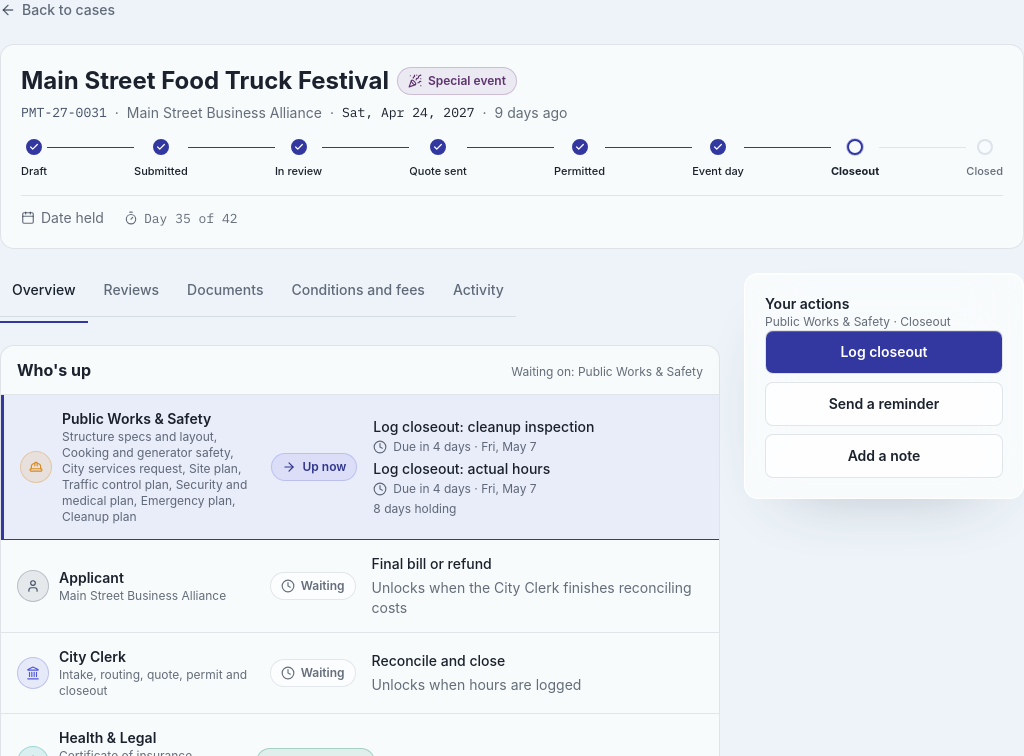
Scenario: case detail: S6 once the hours are in › the Conditions and fees tab says how it settles ($750 over, from the deposit, $250 back), not "Due $750"
Step 1. Click the button "Log closeout" → (884, 352), box x1=765 y1=330 x2=1003 y2=374
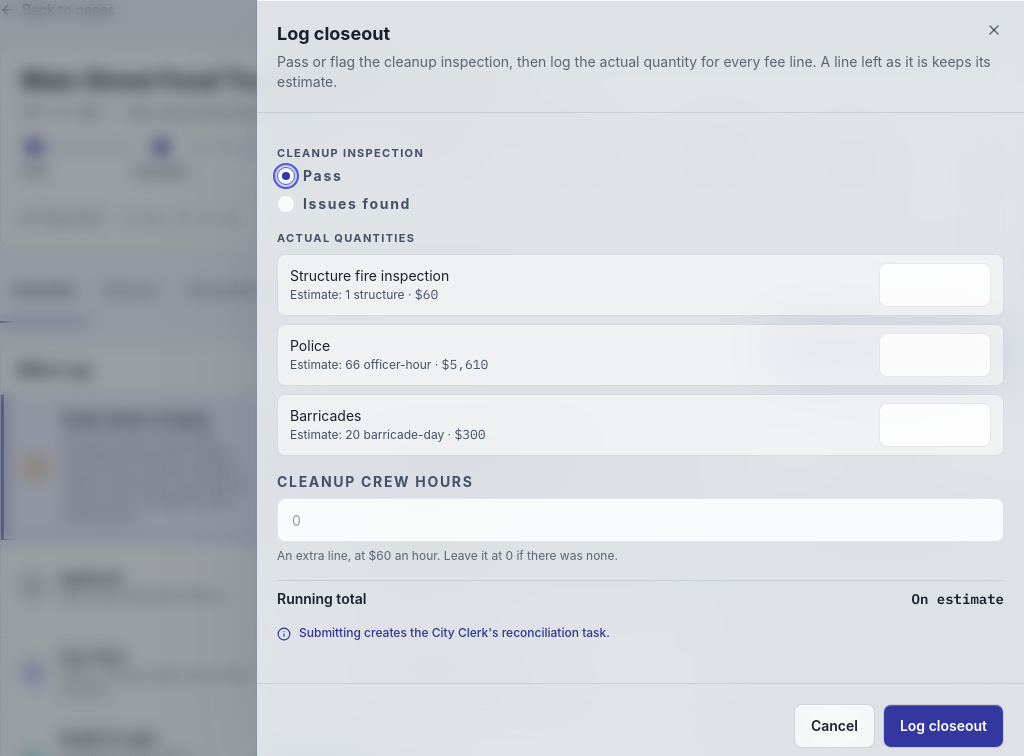
Step 2. Type "72" into the number field named "Actual: Police" → (935, 355), box x1=879 y1=333 x2=991 y2=377
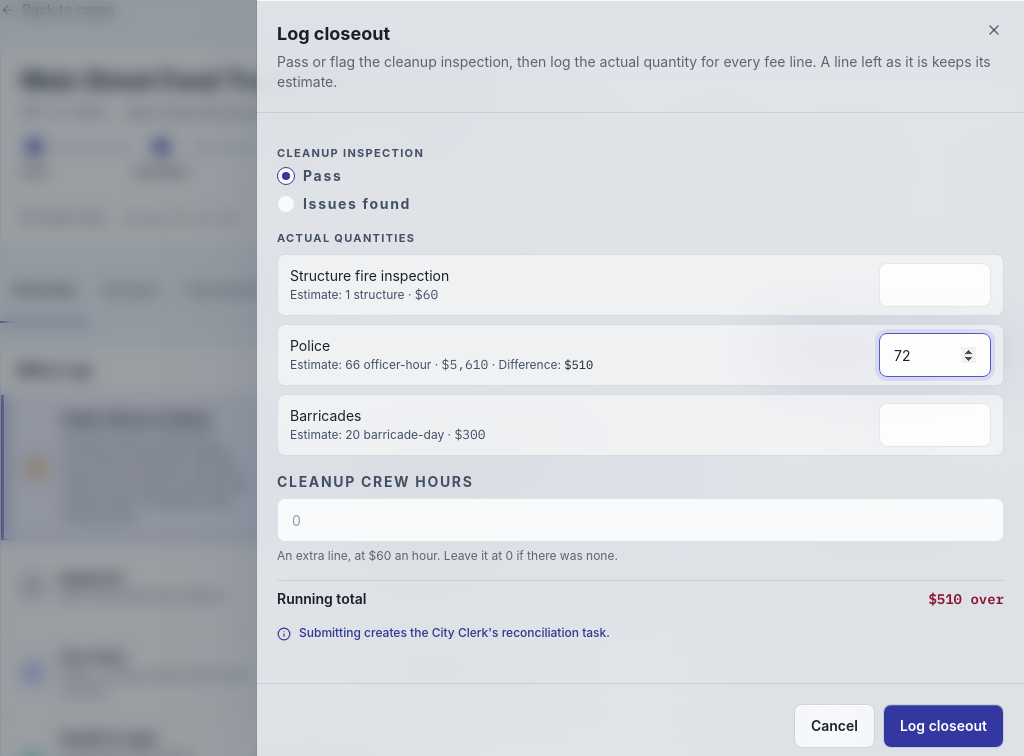
Step 3. Type "4" into the number field labelled "Cleanup crew hours" → (640, 520), box x1=277 y1=498 x2=1004 y2=542
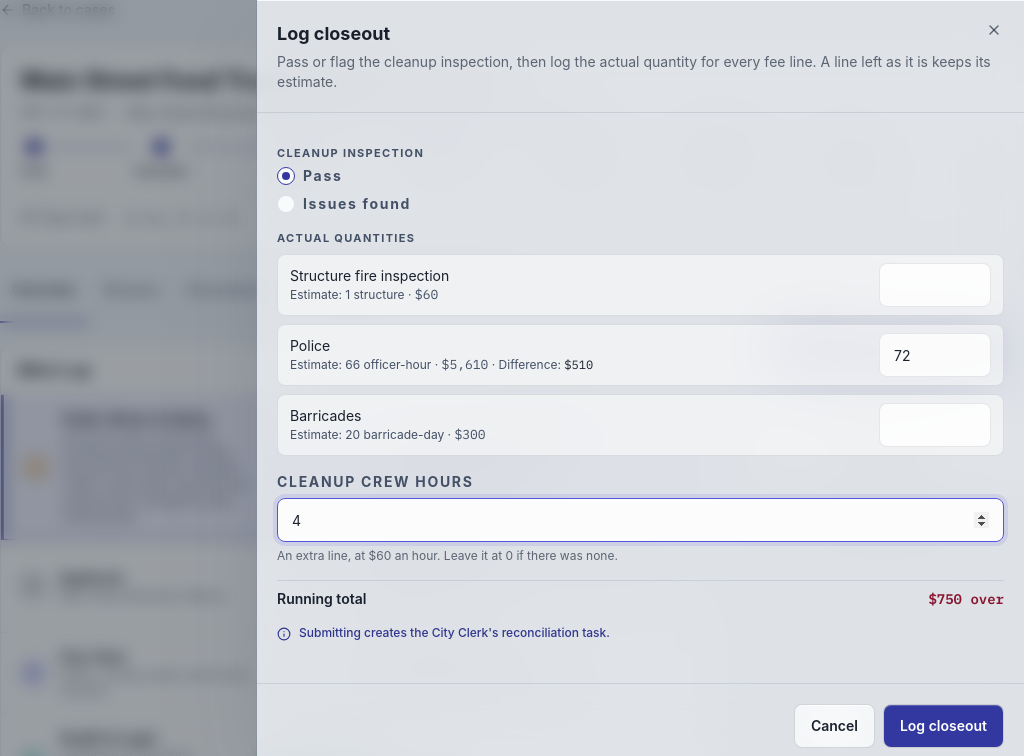
Step 4. Click the button "Log closeout" → (943, 726), box x1=883 y1=704 x2=1004 y2=748
(page scrolled)
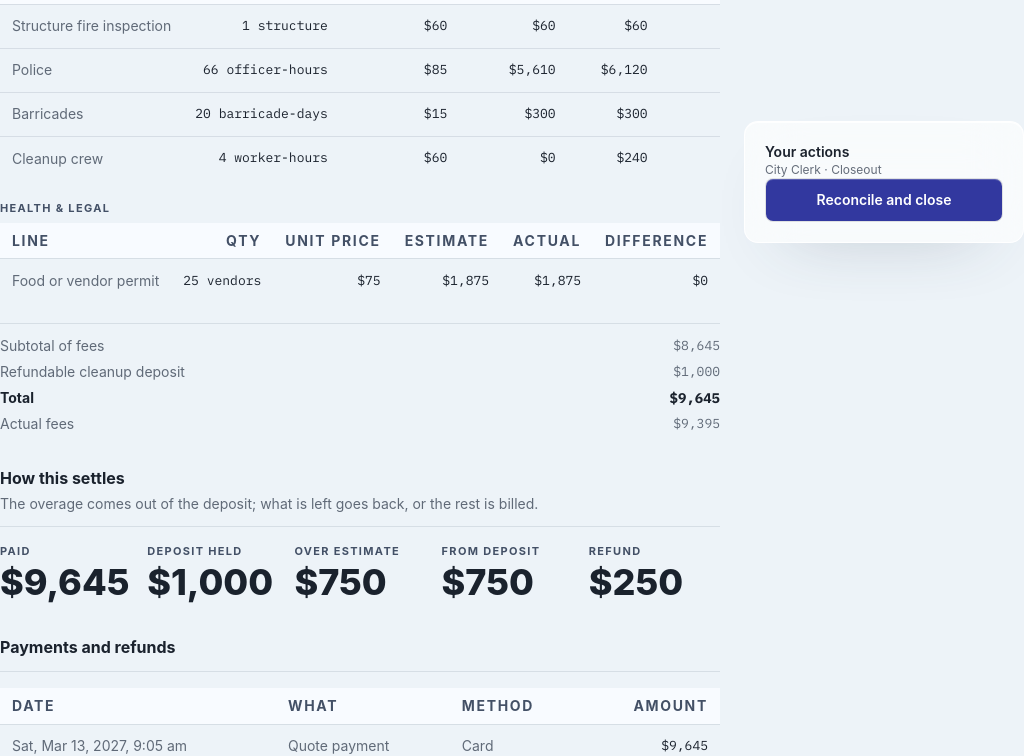
Check: the text "$750" below "From deposit" is shown, box x1=442 y1=560 x2=534 y2=604
Check: the text "$250" is shown, box x1=589 y1=560 x2=683 y2=604
Check: the text "$1,000" below "Deposit held" is shown, box x1=147 y1=560 x2=273 y2=604
